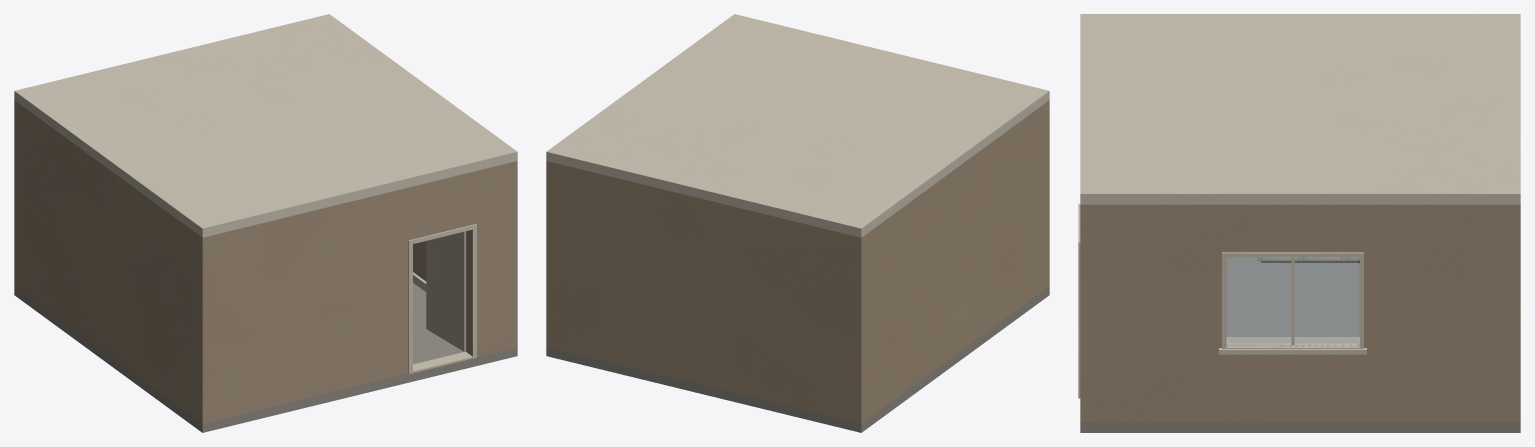
The model's file is Kitchen_FullRoom_Textured.glb.
3 views of the same model, side by side, from view 1: azimuth 30°, elevation 25°; view 2: azimuth 150°, elevation 25°; view 3: azimuth 270°, elevation 25° (orthographic). The views are drawn at different scales.
Visible parts, largest first — view 1: 完整墙体_连续墙角_厚0.18模型单位, 天花_实体厚0.16, 连续落地地板_厚0.16, 推定门扇_固定开启85度, 推定门洞立梃.001, 推定门洞立梃, 推定门槛; view 2: 完整墙体_连续墙角_厚0.18模型单位, 天花_实体厚0.16, 连续落地地板_厚0.16; view 3: 天花_实体厚0.16, 完整墙体_连续墙角_厚0.18模型单位, 连续落地地板_厚0.16, 推定玻璃_实体厚0.012, 推定窗横框, 推定窗台, 推定窗横框.001, 推定窗立框, 推定窗立框.001, 推定门洞立梃.001.
Boxes of the visible parts, x1,y1,x2,y2 form: 完整墙体_连续墙角_厚0.18模型单位: (14,100,517,423); 天花_实体厚0.16: (14,14,517,237); 连续落地地板_厚0.16: (14,283,517,432); 推定门扇_固定开启85度: (426,231,465,351); 推定门洞立梃.001: (465,228,476,358); 推定门洞立梃: (408,244,412,373); 推定门槛: (413,351,472,372); 完整墙体_连续墙角_厚0.18模型单位: (546,100,1049,423); 天花_实体厚0.16: (546,14,1049,237); 连续落地地板_厚0.16: (546,286,1049,432); 天花_实体厚0.16: (1080,14,1520,204); 完整墙体_连续墙角_厚0.18模型单位: (1080,204,1520,422); 连续落地地板_厚0.16: (1080,257,1520,432); 推定玻璃_实体厚0.012: (1228,257,1357,343); 推定窗横框: (1226,339,1359,348); 推定窗台: (1219,337,1366,354); 推定窗横框.001: (1222,252,1363,257); 推定窗立框: (1222,253,1226,348); 推定窗立框.001: (1359,253,1363,348); 推定门洞立梃.001: (1078,247,1080,398).
Size of the model in its own units: 5.83 by 3.57 by 5.99.
18 materials, 7 textured.
